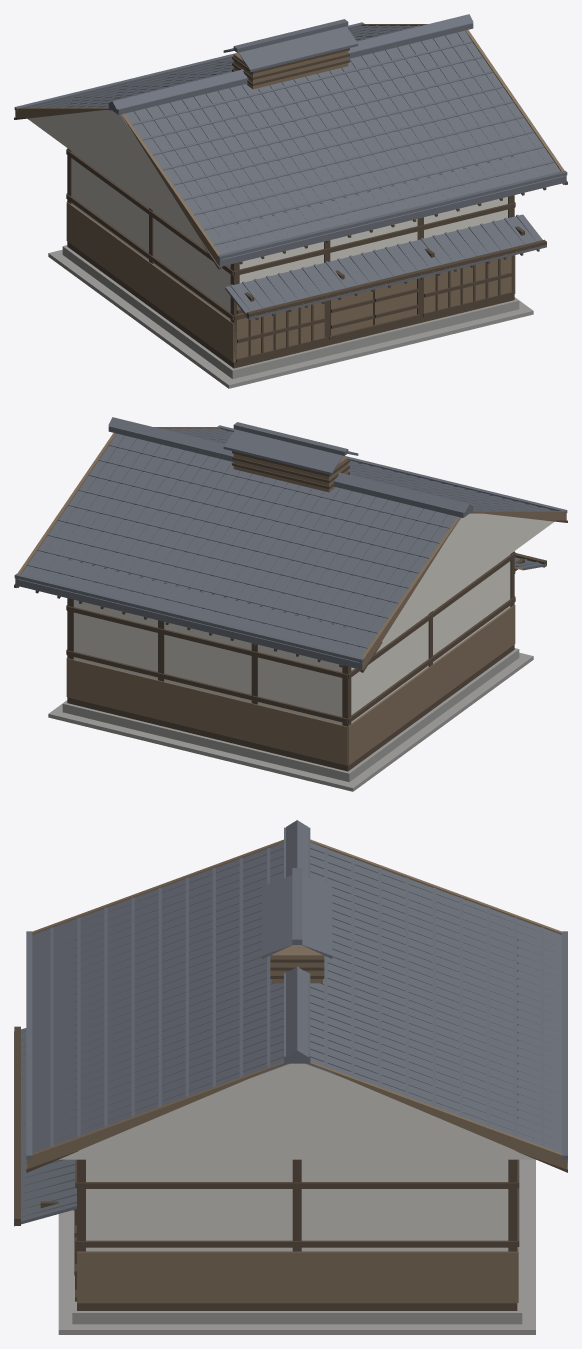
File: pilot_silhouette_workshop_01.glb
The picture shows the model from 3 angles, top to bottom: view 1: azimuth 30°, elevation 25°; view 2: azimuth 150°, elevation 25°; view 3: azimuth 270°, elevation 25°; orthographic projection. The views are drawn at different scales.
Visible parts, largest first — view 1: pilot_silhouette_workshop_01; view 2: pilot_silhouette_workshop_01; view 3: pilot_silhouette_workshop_01.
Boxes of the visible parts, x1=… form: pilot_silhouette_workshop_01: x1=14, y1=14, x2=567, y2=388; pilot_silhouette_workshop_01: x1=14, y1=417, x2=567, y2=791; pilot_silhouette_workshop_01: x1=14, y1=820, x2=567, y2=1334.
Bounding box in the file's own units: 9.16 × 6.17 × 9.31.
